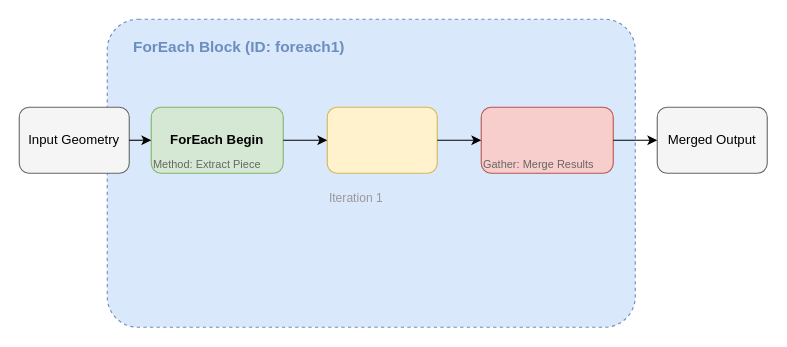
The diagram is 787 pixels wide and 347 high, and some of its shapes have lost their labels. The box of each missing label's shape, as (x1, y1, x2, y2) in pixels:
ForEach End: (480, 106, 613, 173)
Transform: (326, 106, 437, 173)
